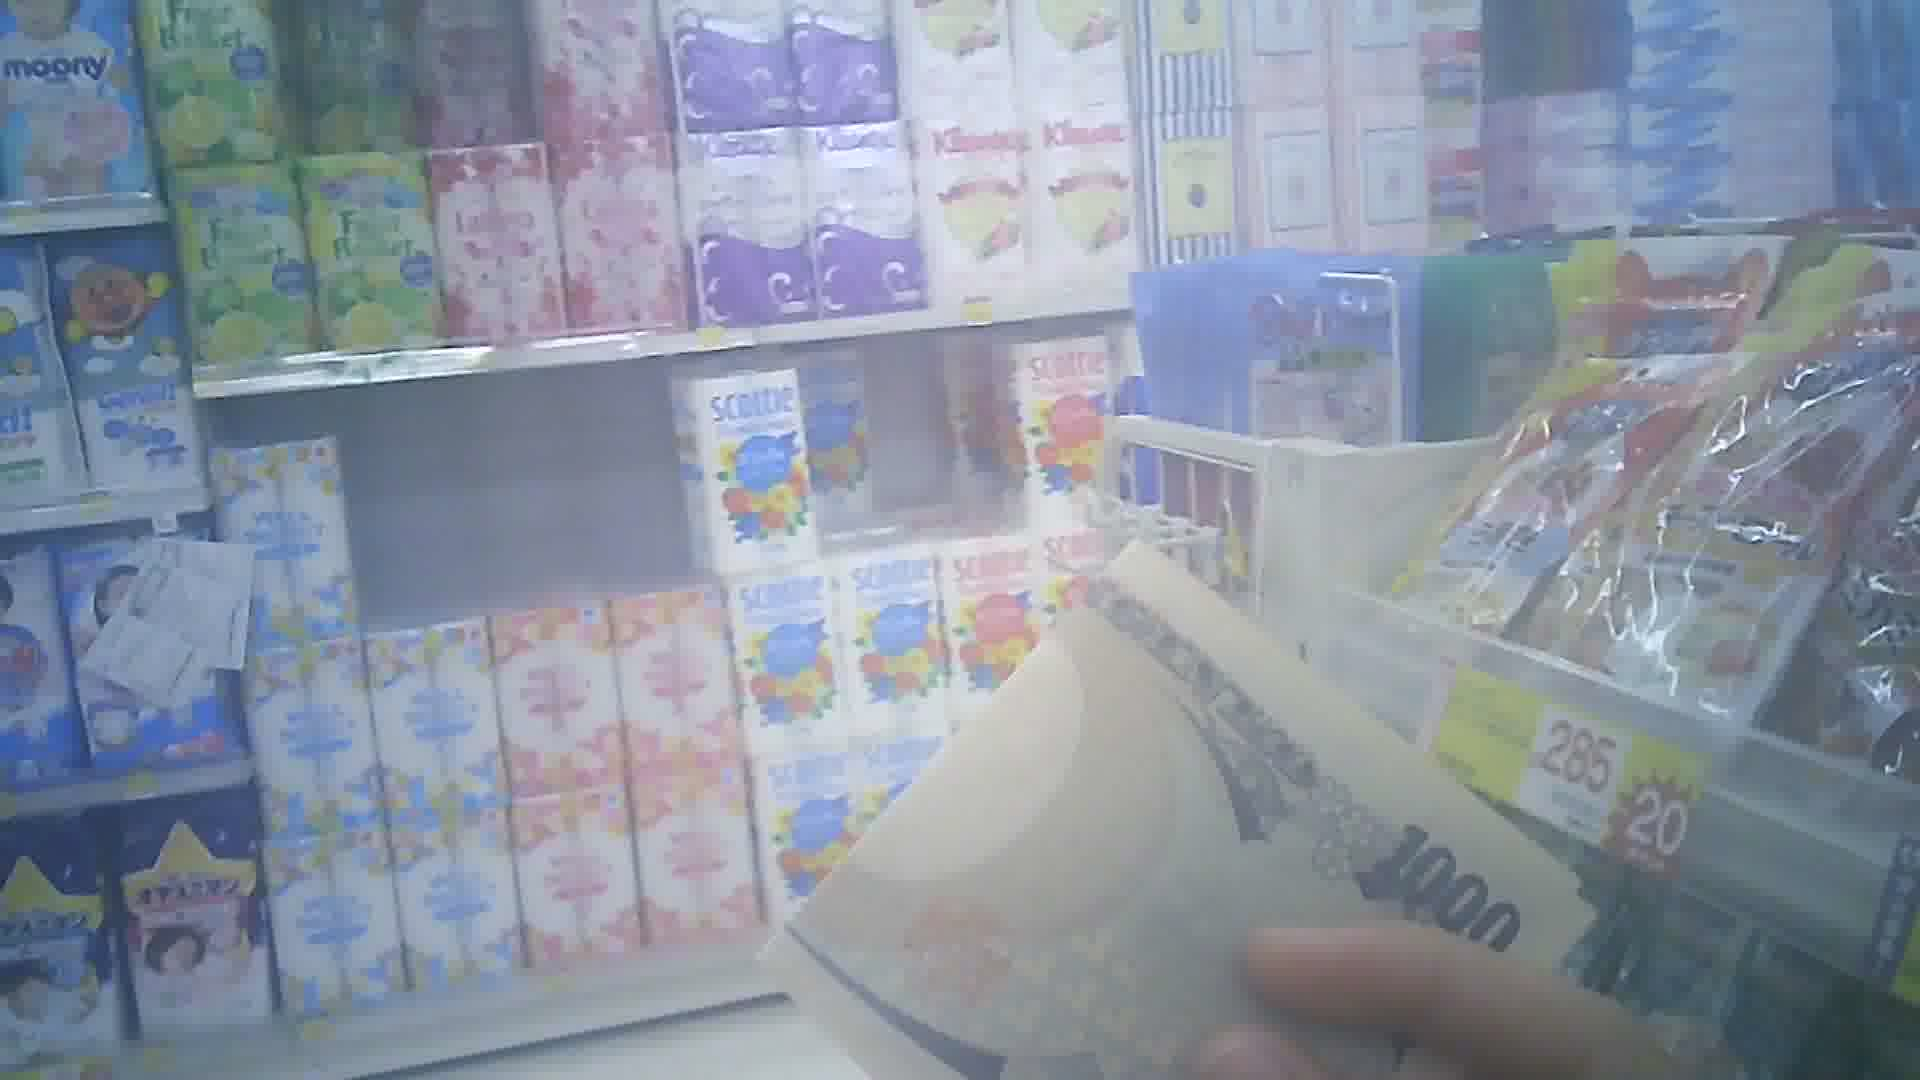1,000 Yen: (798, 535, 1556, 1065)
